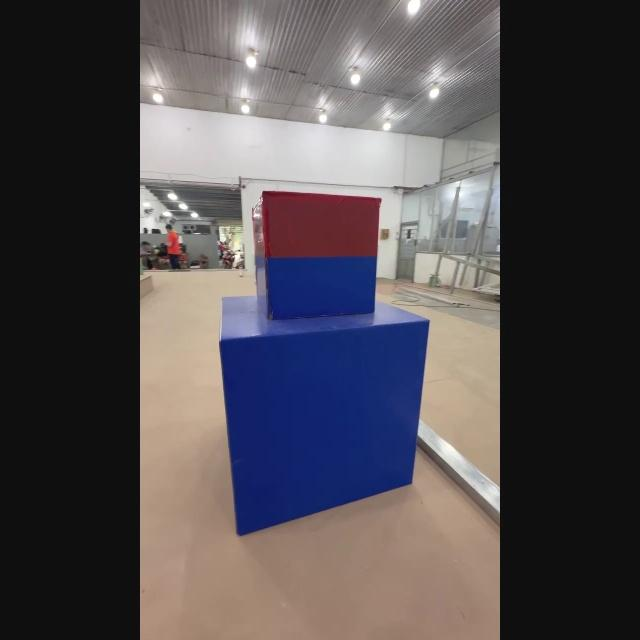earth_block: (219, 295, 432, 538)
sky_block: (245, 188, 381, 322)
